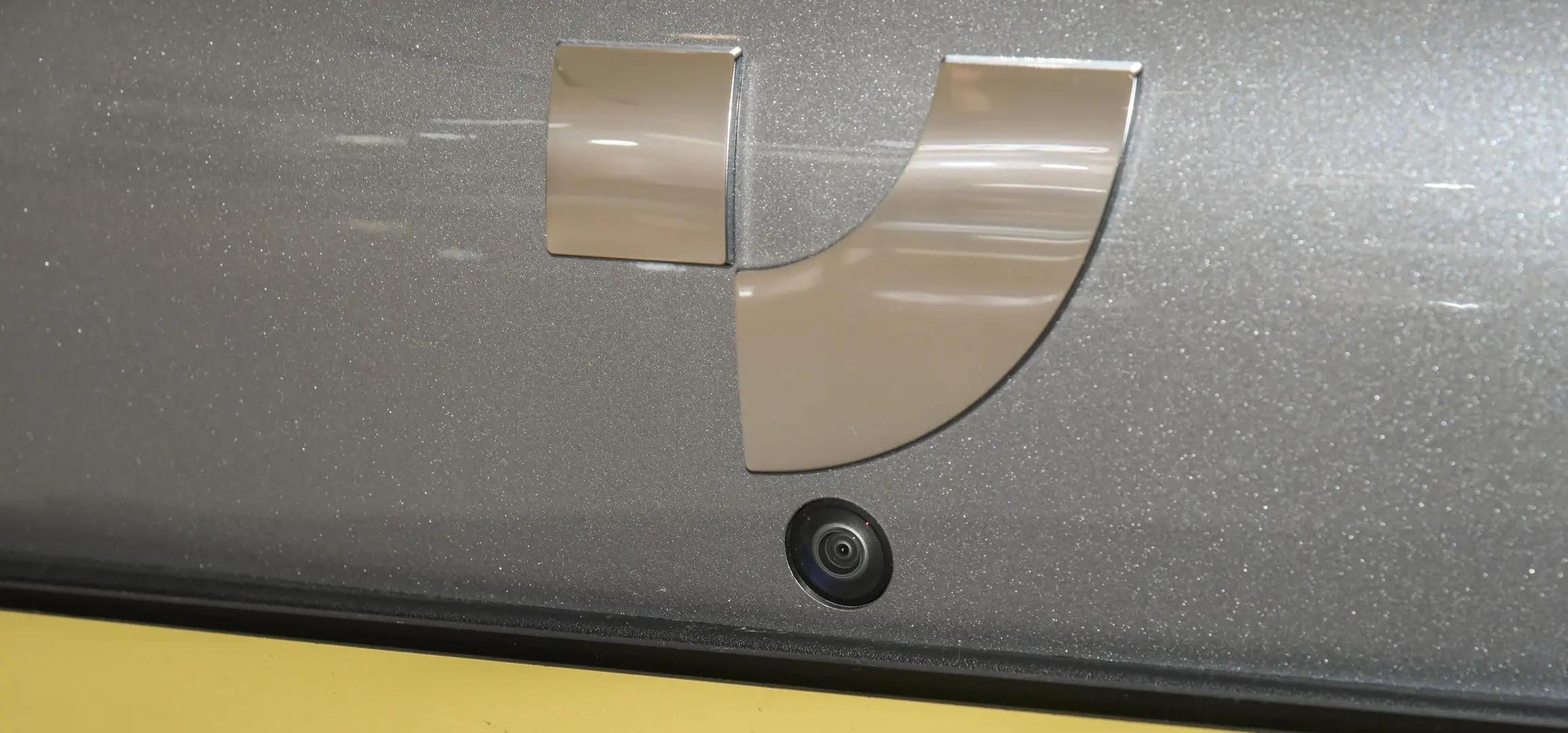JIYUE: (540, 39, 1141, 485)
